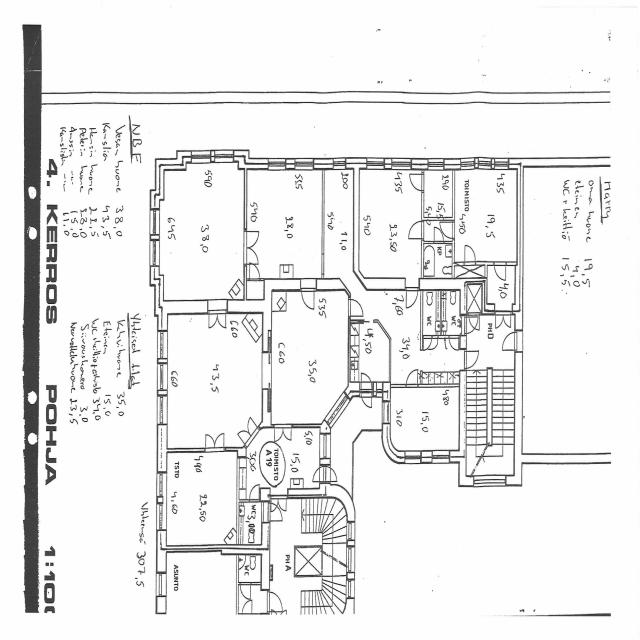door: (262, 503, 282, 521), (302, 279, 314, 308), (309, 466, 330, 482), (459, 317, 478, 334), (459, 351, 478, 368), (320, 466, 340, 482), (361, 367, 371, 397), (361, 382, 371, 411), (246, 420, 260, 440), (240, 428, 253, 448), (244, 248, 258, 265), (217, 300, 226, 326), (406, 368, 418, 387), (271, 488, 280, 513), (280, 488, 289, 513), (348, 300, 362, 316), (244, 232, 258, 248), (209, 300, 217, 326), (249, 263, 260, 281), (274, 422, 283, 438), (449, 336, 458, 352), (214, 436, 223, 452), (250, 487, 259, 502), (283, 422, 291, 438), (206, 436, 214, 452), (423, 336, 432, 350)
